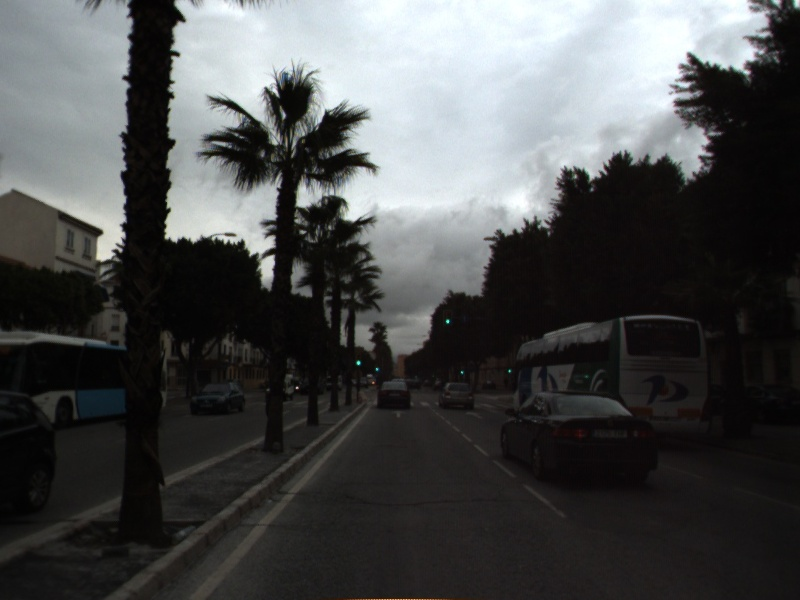STRAIGHT: (463, 408, 486, 421), (389, 408, 409, 420)
